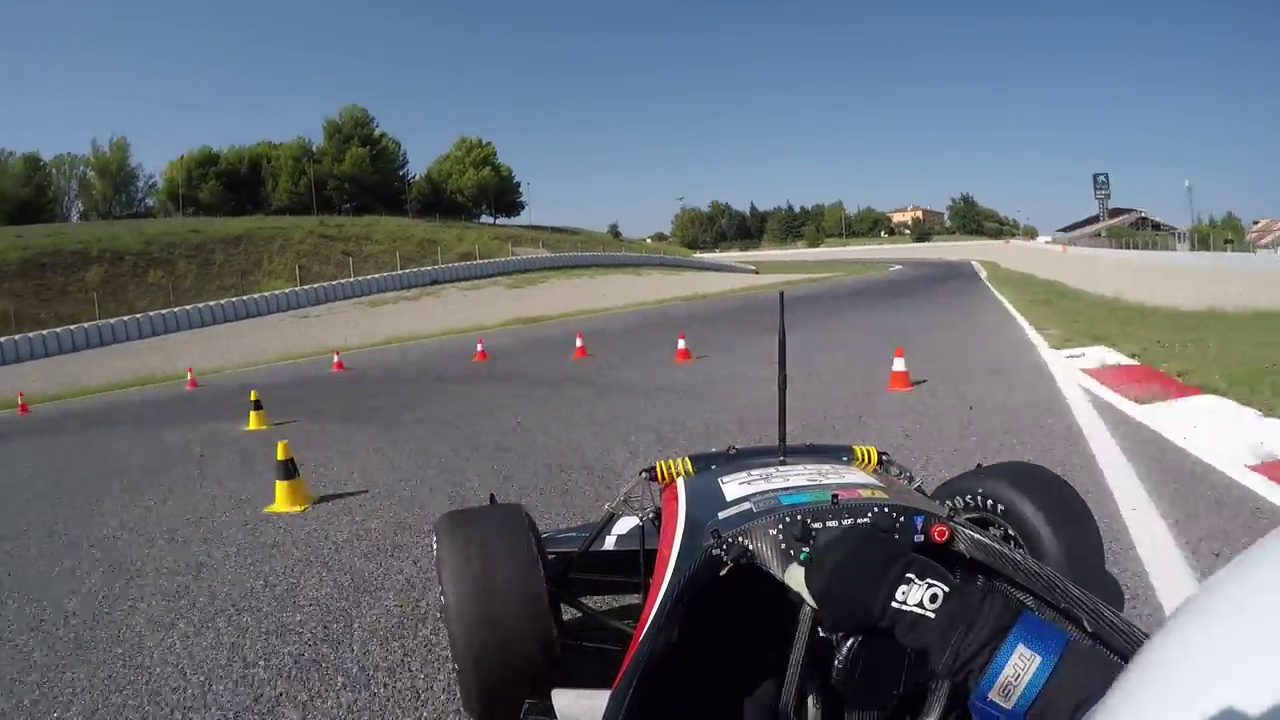Cone: (266, 438, 320, 517), (886, 343, 913, 394), (247, 388, 271, 434), (671, 327, 699, 363)
